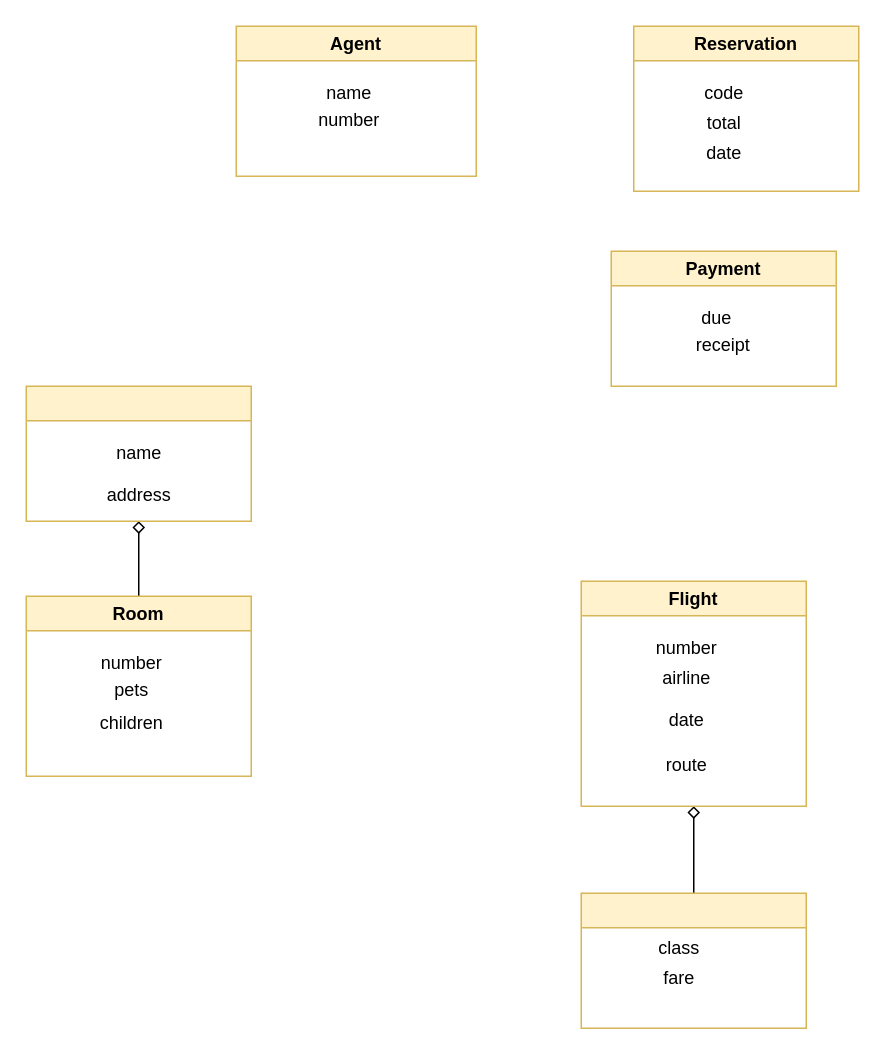
Some shapes in this 885 by 1055 pixel diagram are drawn without their labels. Here are the shapes that lost their labels. From the top down, the box of each, then its label:
(25, 385, 251, 521): Hotel
(580, 892, 806, 1028): Seat
